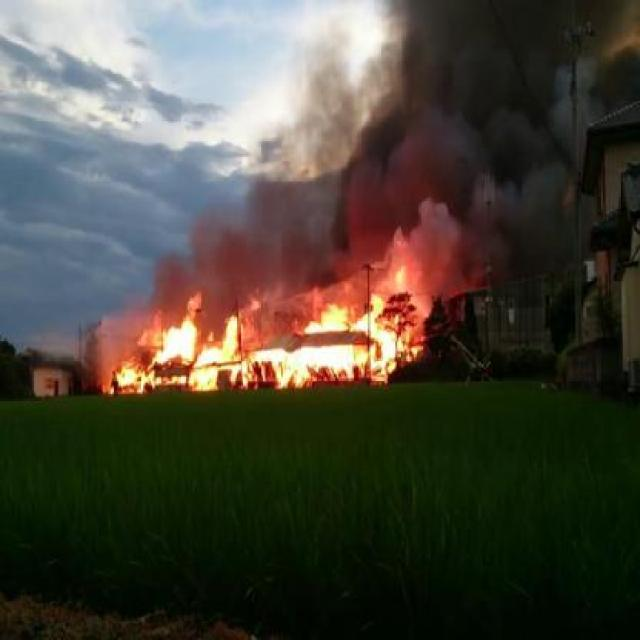Smoke: (287, 16, 629, 279), (99, 272, 442, 397)
